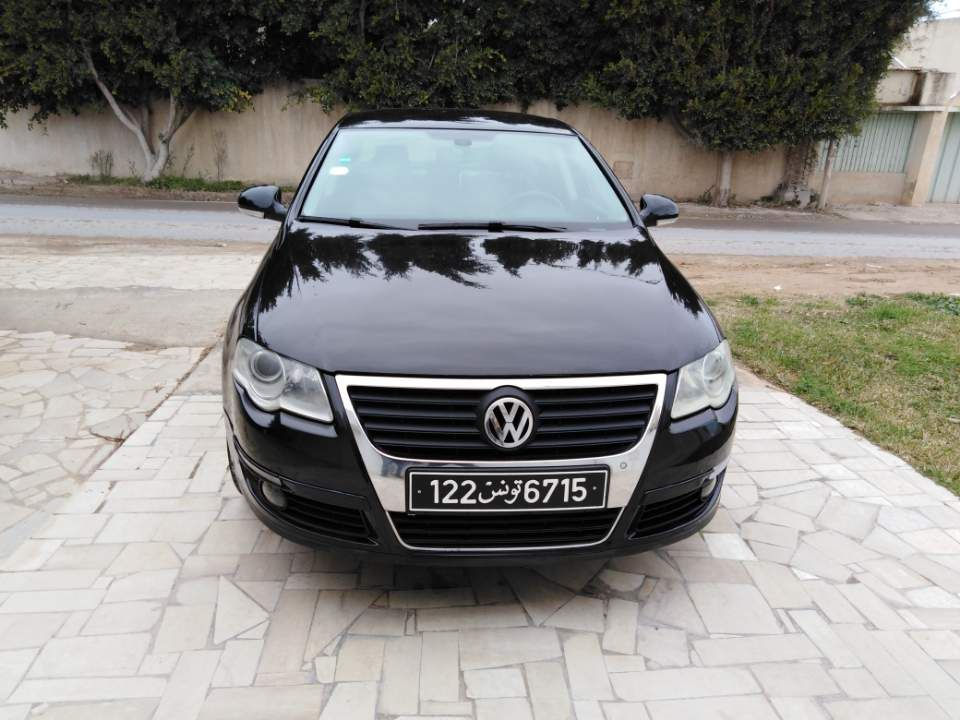LP: (408, 469, 608, 514)
